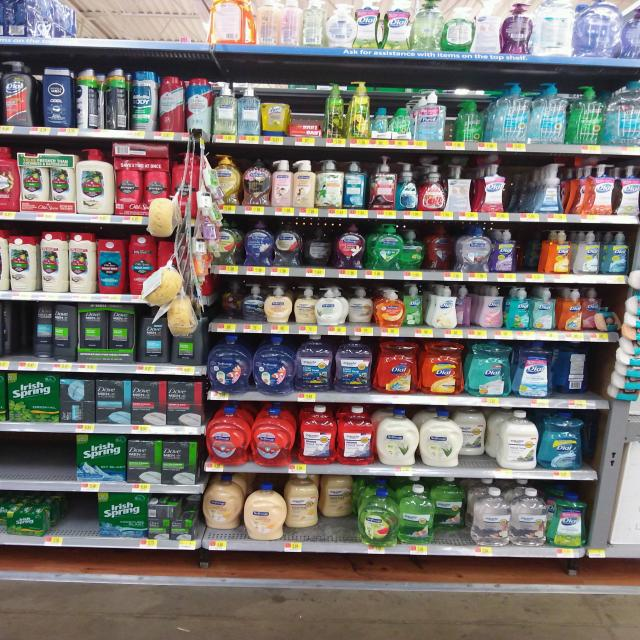void: (52, 494, 92, 561), (508, 153, 540, 226), (0, 299, 29, 379), (34, 434, 67, 501), (1, 433, 28, 500), (515, 232, 543, 284), (114, 0, 146, 44), (179, 1, 209, 47), (81, 5, 109, 43), (152, 2, 176, 42)
